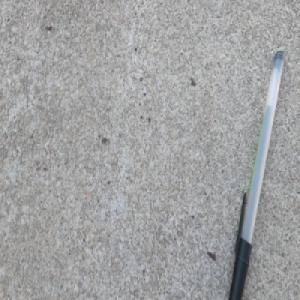Pen: (228, 48, 286, 300)
